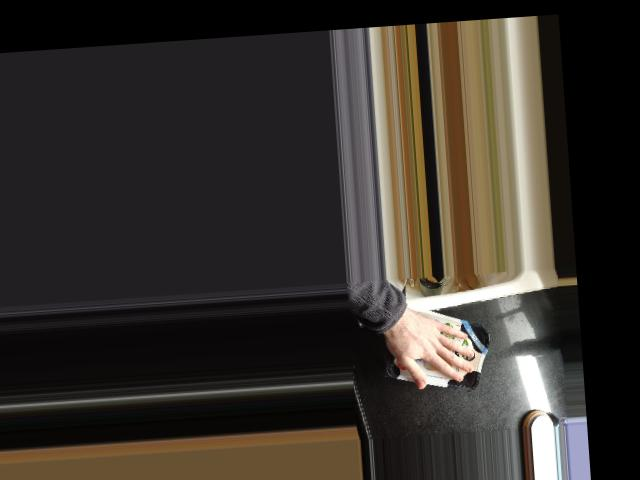cheese: (379, 296, 495, 398)
